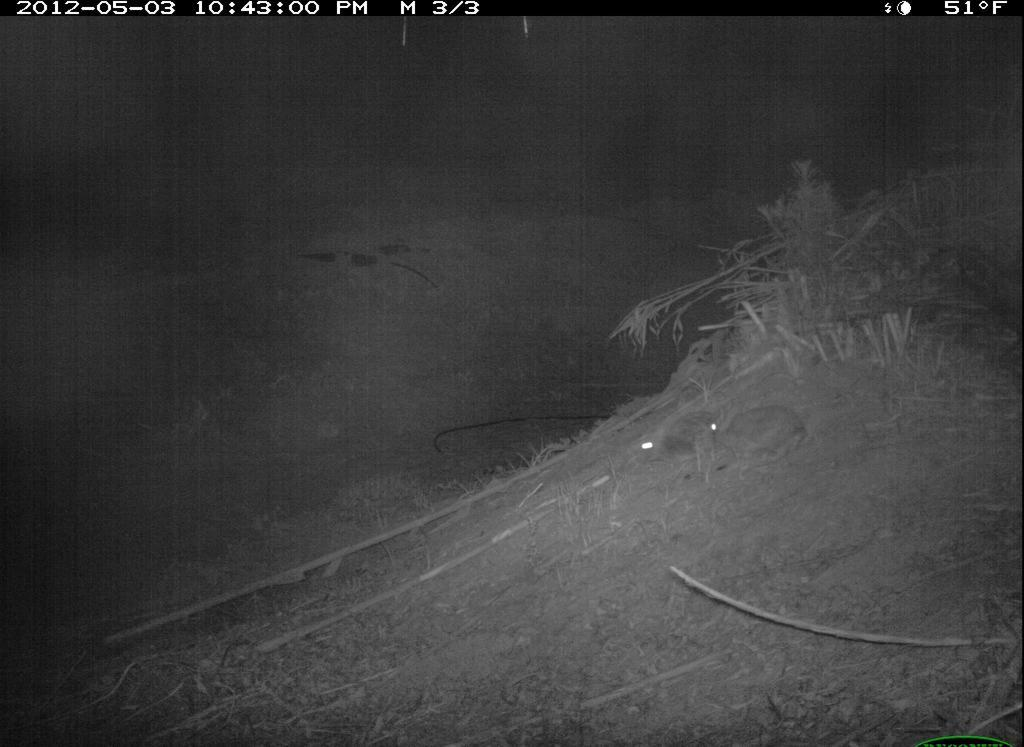rabbit: (706, 401, 811, 473), (632, 403, 716, 475)
